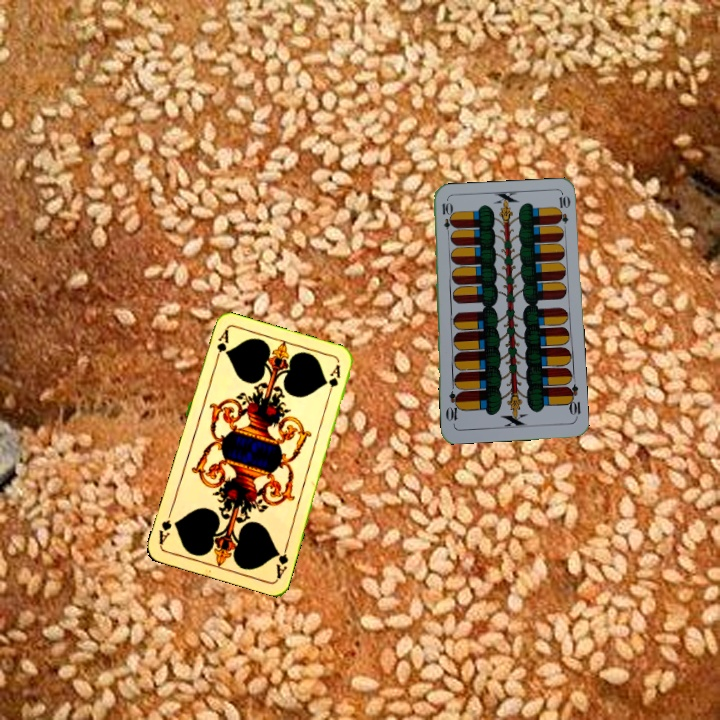E10: (563, 381, 583, 421), (438, 198, 453, 239)
GA: (211, 326, 231, 366), (272, 541, 291, 581)
